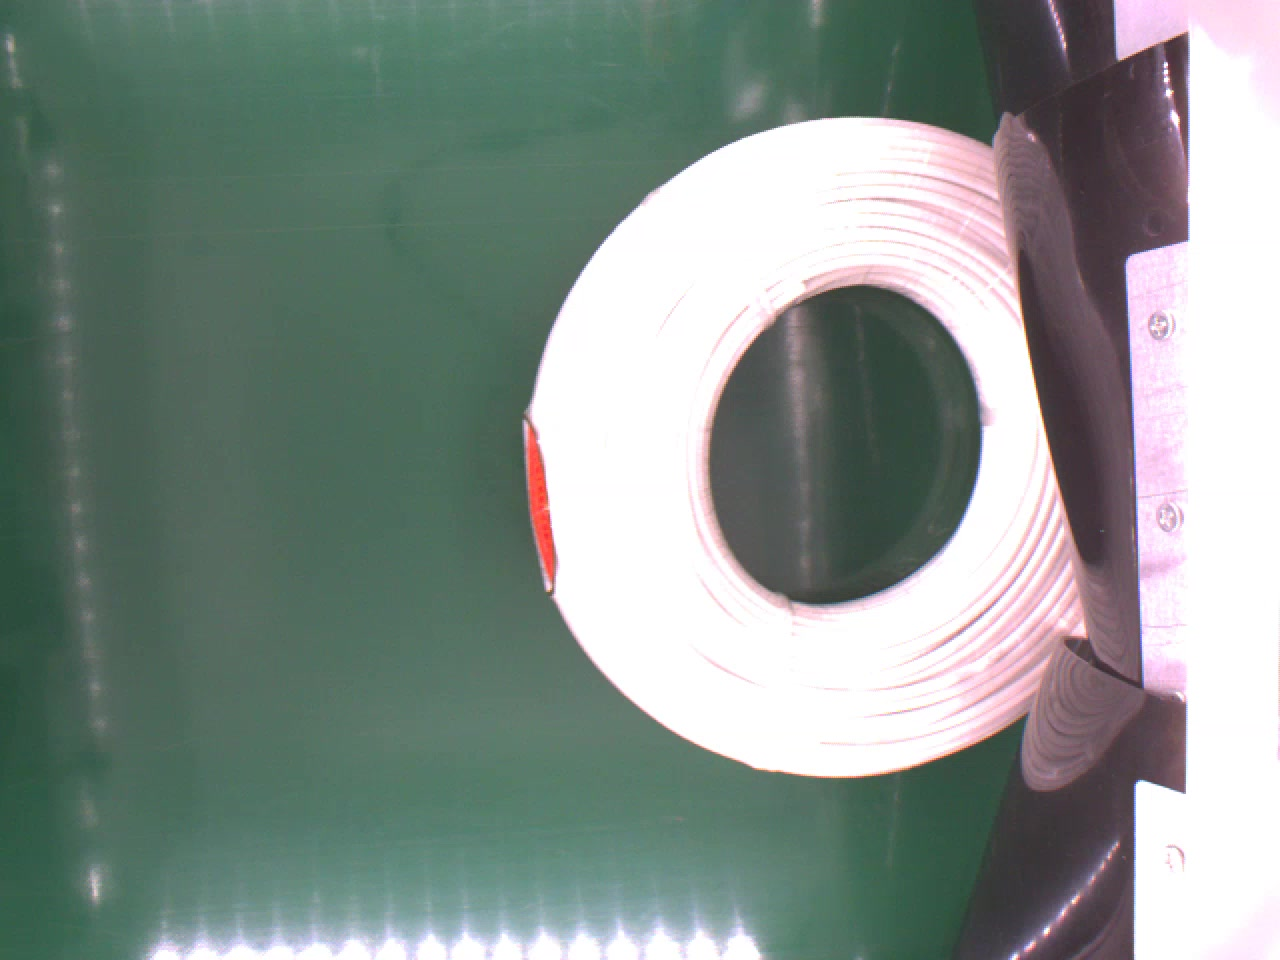white: (522, 109, 1087, 782)
